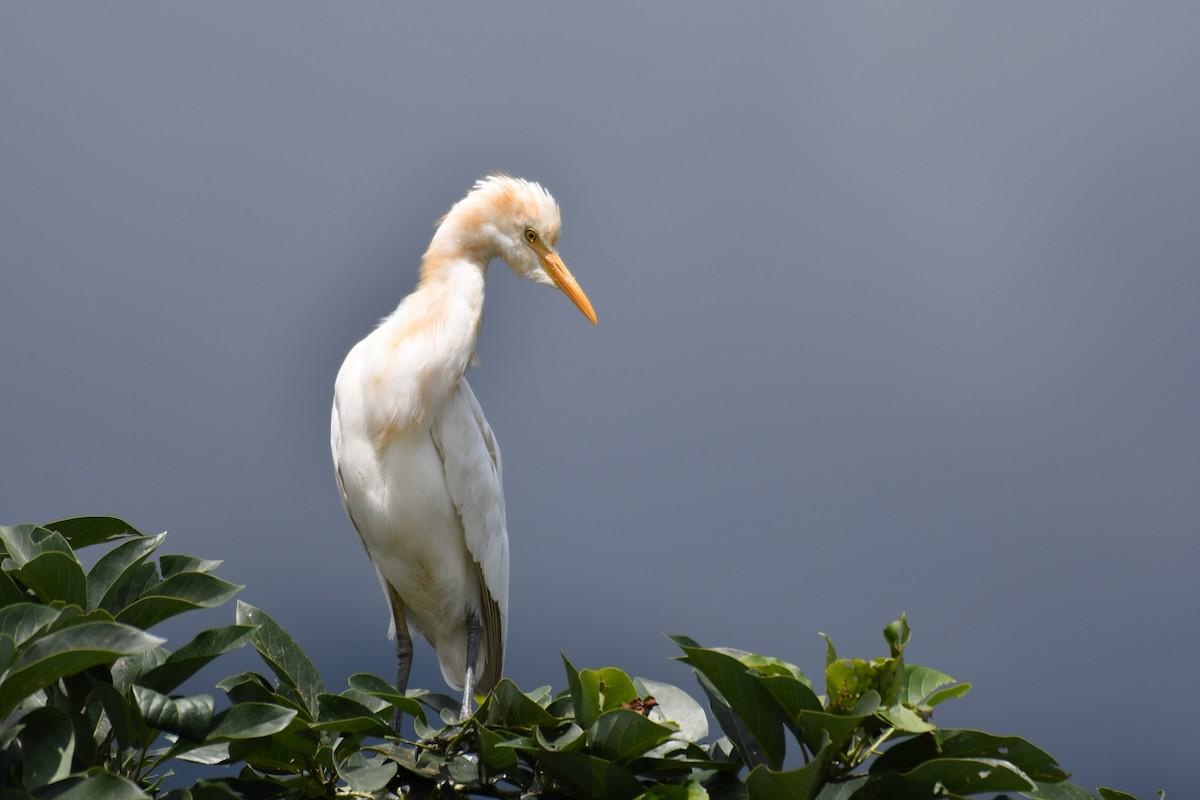egret: (348, 171, 614, 711)
